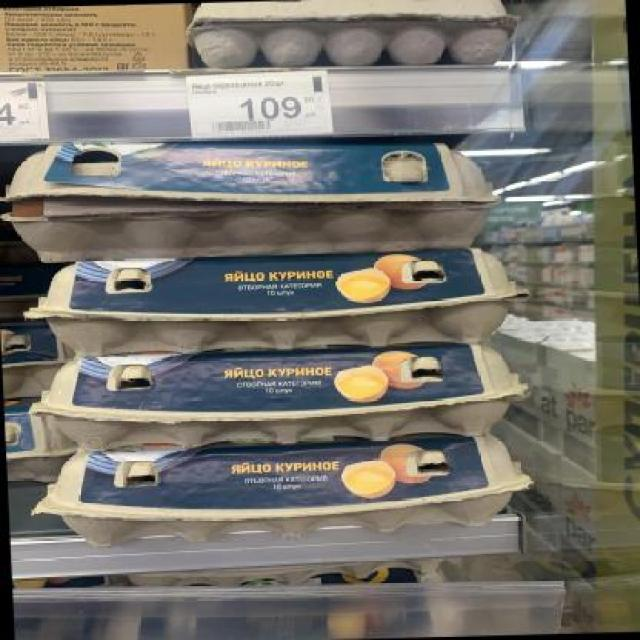Egg: (0, 133, 505, 261), (36, 430, 535, 542), (32, 339, 528, 448), (28, 247, 528, 353), (3, 398, 63, 484)
